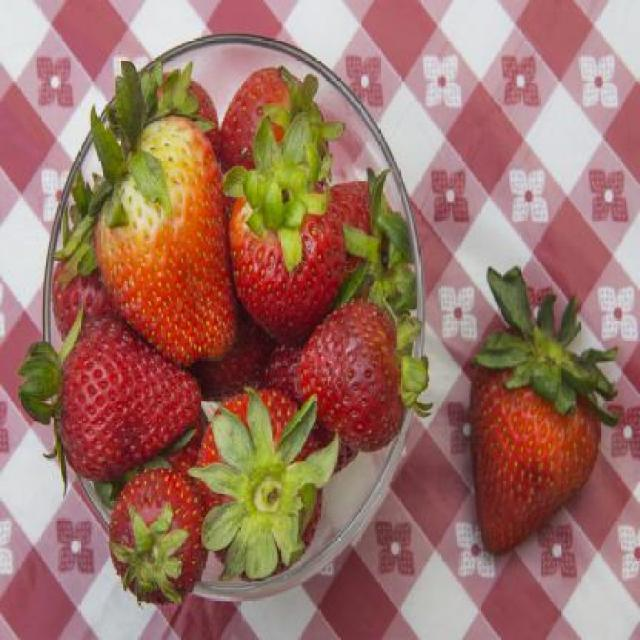Strawberry: (15, 47, 437, 613), (472, 312, 602, 540)
